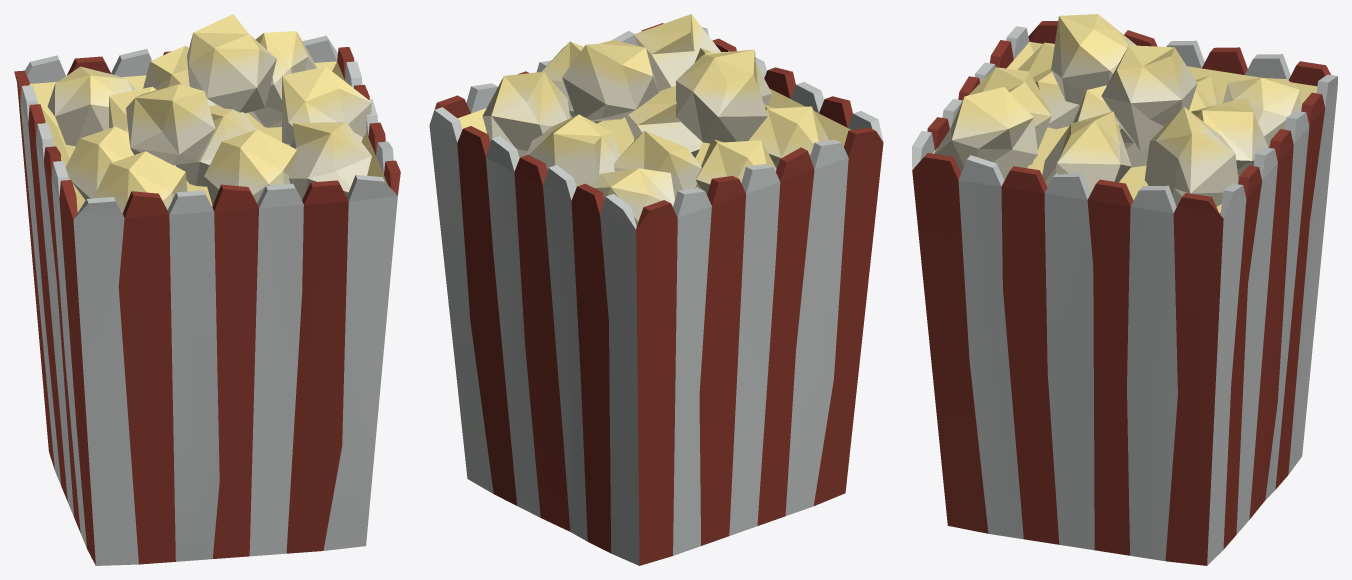
File: SM_prop_Popcorn_02.obj
3 renders of one model, left to right at view 1: azimuth 30°, elevation 25°; view 2: azimuth 150°, elevation 25°; view 3: azimuth 270°, elevation 25°, orthographic. The views are drawn at different scales.
Visible parts, largest first — view 1: SM_prop_Popcorn_02_0; view 2: SM_prop_Popcorn_02_0; view 3: SM_prop_Popcorn_02_0.
Boxes of the visible parts, x1,y1,x2,y2 form: SM_prop_Popcorn_02_0: (14,14,400,565); SM_prop_Popcorn_02_0: (429,14,883,565); SM_prop_Popcorn_02_0: (912,14,1337,565).
Bounding box in the file's own units: 0.206 × 0.2471 × 0.206.
1 material, 1 textured.
